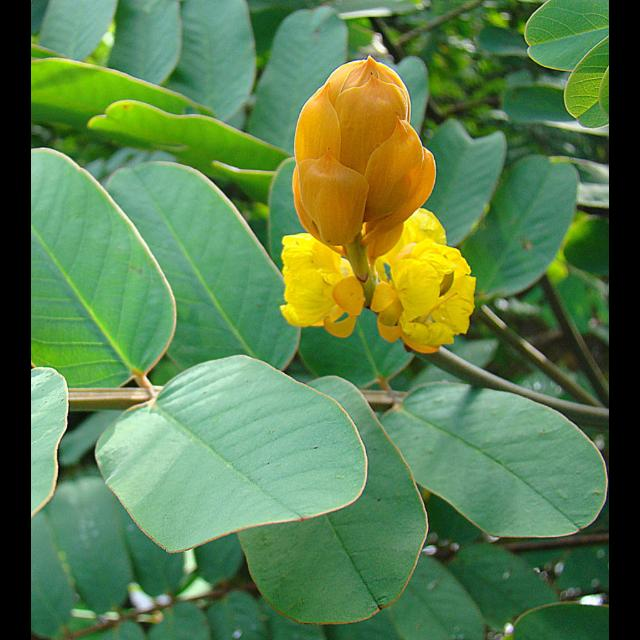Flower: (291, 55, 437, 263), (374, 200, 476, 350), (278, 232, 364, 334)
